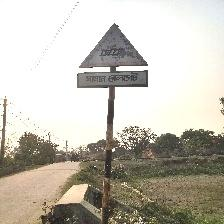Rail-crossing: (78, 24, 149, 89)
